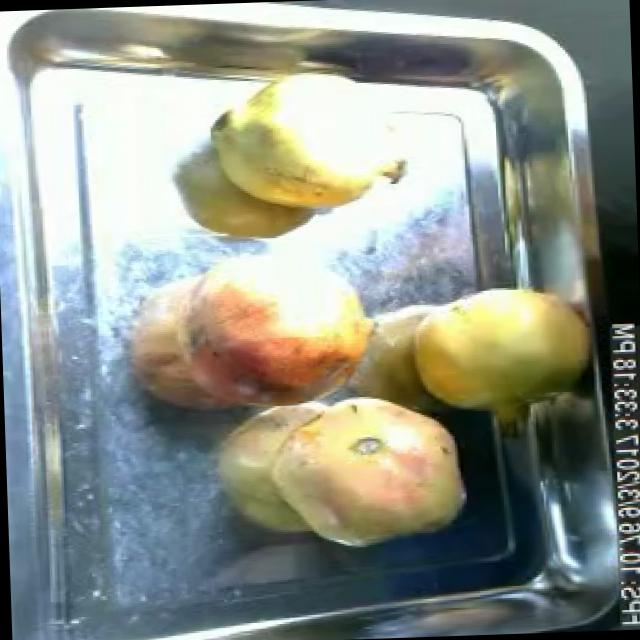fruit: (255, 385, 472, 558), (156, 258, 382, 420), (197, 61, 416, 226), (392, 276, 602, 422)
